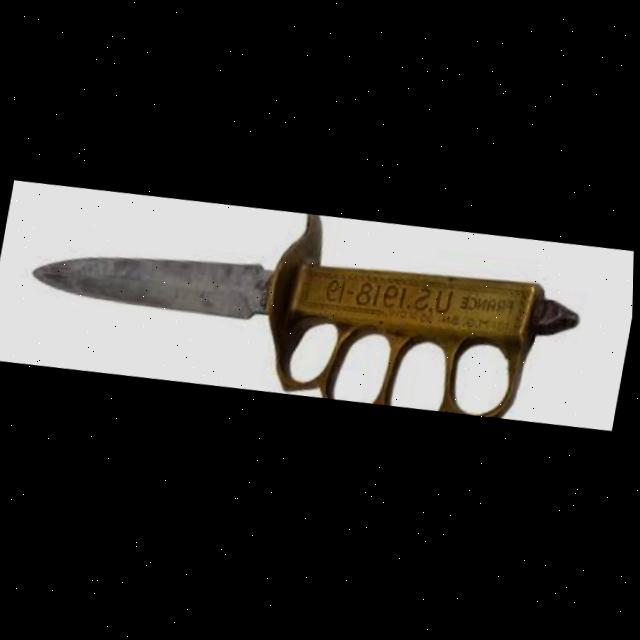knife: (18, 166, 597, 450)
